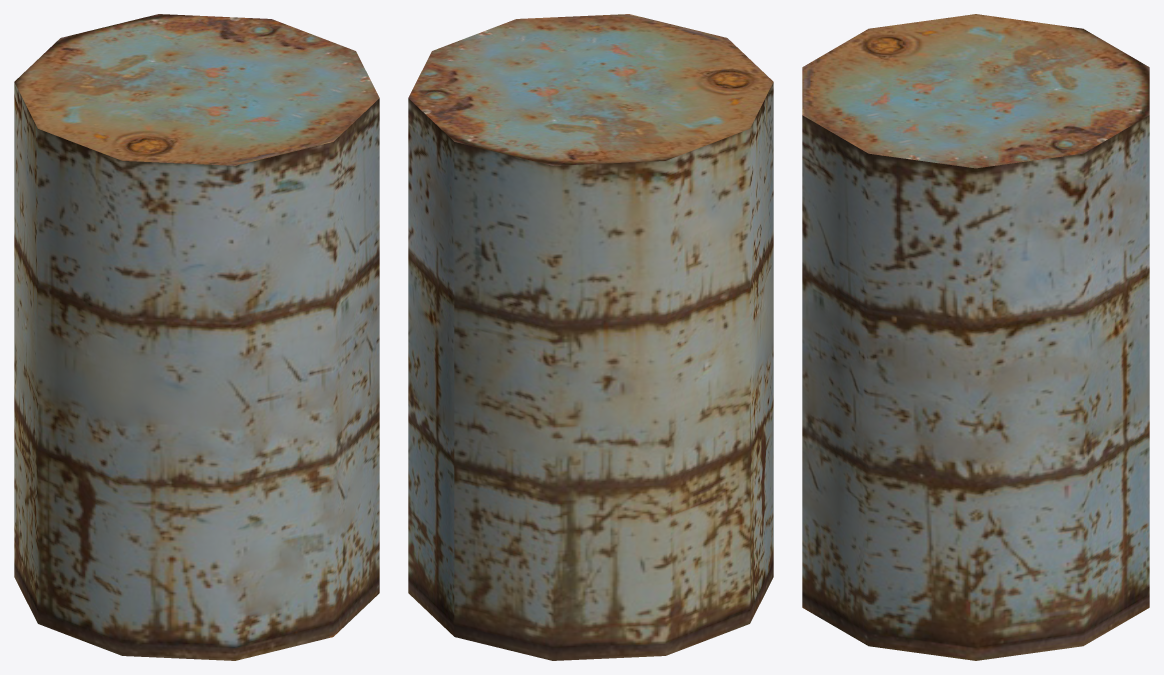
Rendered from barrel.FBX.
3 renders of one model, left to right at view 1: azimuth 30°, elevation 25°; view 2: azimuth 150°, elevation 25°; view 3: azimuth 270°, elevation 25°, orthographic.
Visible parts, largest first — view 1: Barell; view 2: Barell; view 3: Barell.
Part boxes in pixels (left/top/right/bottom): Barell: left=14, top=14, right=379, bottom=660; Barell: left=408, top=14, right=773, bottom=660; Barell: left=802, top=14, right=1149, bottom=660.
Size of the model in its own units: 0.696 by 1.03 by 0.6619.
